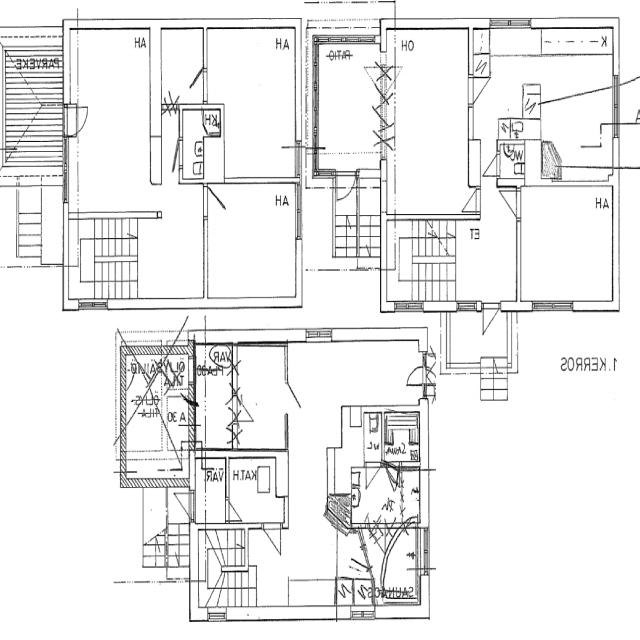door: (347, 544, 372, 580), (419, 360, 448, 390), (399, 360, 428, 390), (182, 69, 206, 101), (170, 491, 197, 519), (285, 383, 309, 414), (496, 189, 520, 220), (336, 170, 355, 208), (60, 108, 86, 134), (204, 186, 226, 216), (483, 301, 500, 338), (263, 522, 281, 556), (469, 78, 491, 105), (161, 140, 182, 168), (224, 498, 243, 520), (483, 154, 501, 176), (366, 460, 380, 488), (462, 190, 479, 212), (386, 460, 399, 486)
